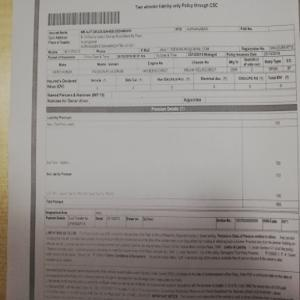table: (44, 105, 300, 212), (48, 25, 297, 104), (45, 212, 300, 232)
